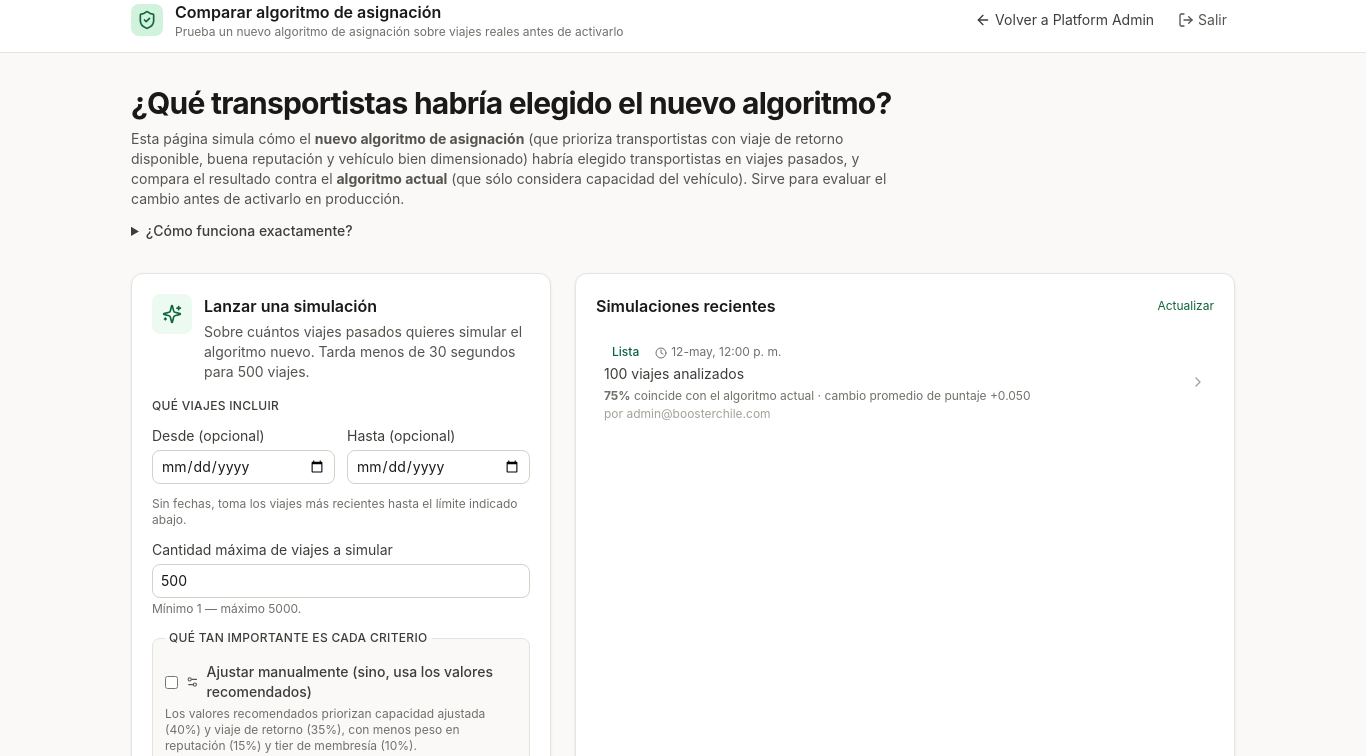
Test: Detalle de una simulación › detalle con errorMessage → mensaje humanizado, sin código técnico
The width and height of the screenshot is (1366, 756).
Click the text "100 viajes analizados" at (674, 374), box [604,365,744,382]
(page scrolled)
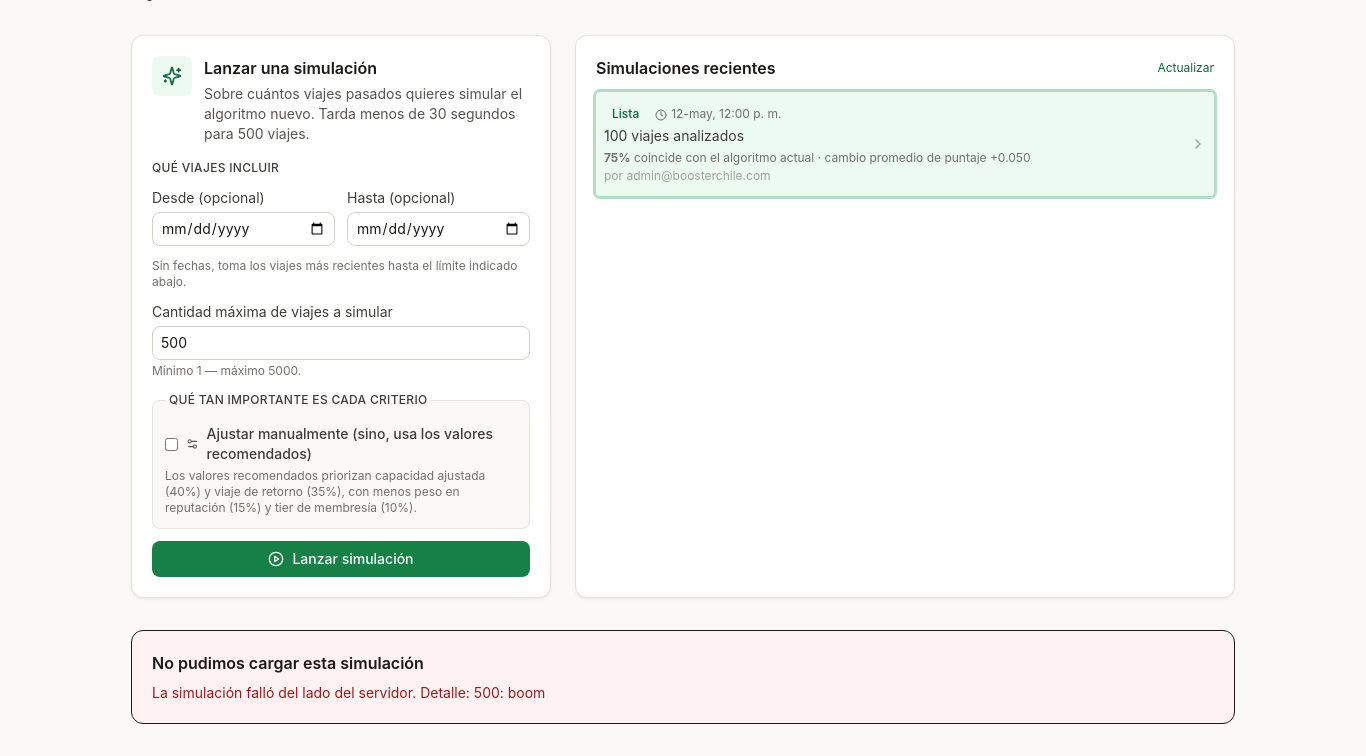
Expected: the heading "No pudimos cargar esta simulación" is shown, [152,653,424,673]
Expected: the text "La simulación falló del lado del servidor" is shown, [152,684,545,701]
